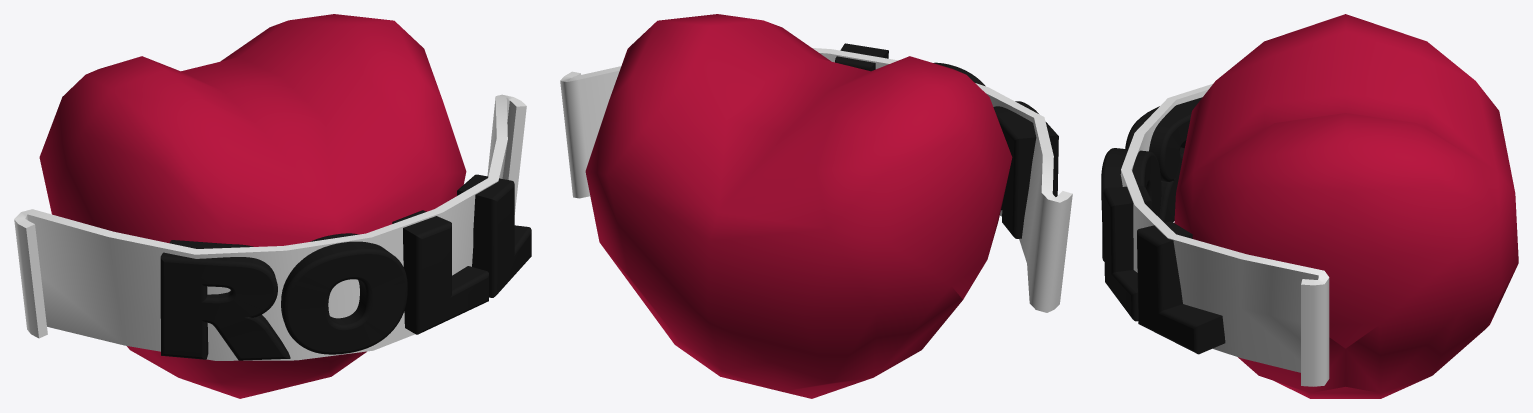
File: Roll.fbx
3 renders of one model, left to right at view 1: azimuth 30°, elevation 25°; view 2: azimuth 150°, elevation 25°; view 3: azimuth 270°, elevation 25°, orthographic. The views are drawn at different scales.
Visible parts, largest first — view 1: Roll; view 2: Roll; view 3: Roll.
Part boxes in pixels (x1,y1,x2,y2): Roll: (14,14,531,398); Roll: (560,14,1072,398); Roll: (1101,14,1518,398).
Size of the model in its own units: 296 by 185 by 225.
